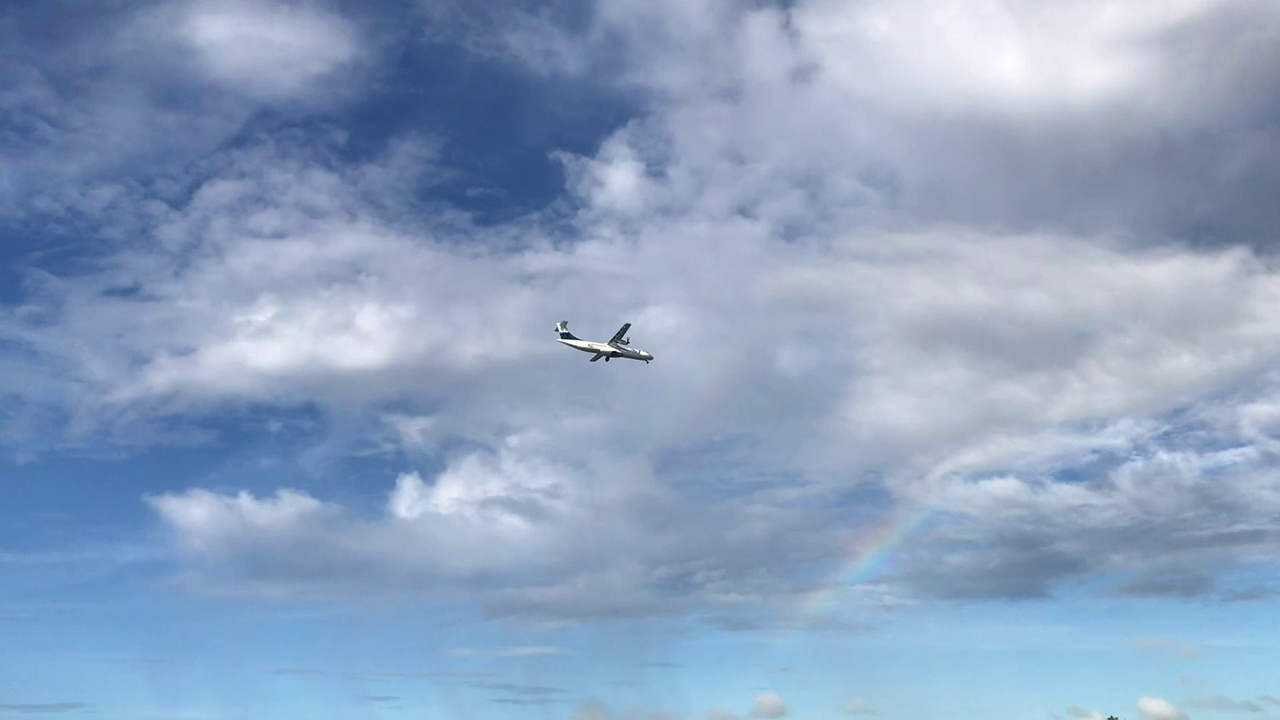plane: (553, 317, 652, 364)
